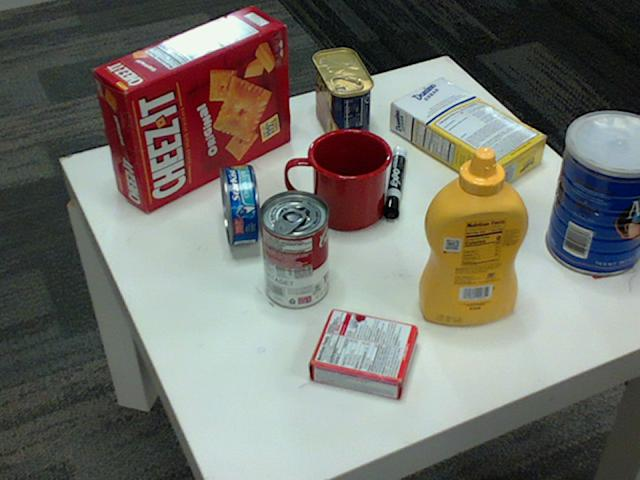cracker_box: (93, 3, 290, 210)
gelatin_box: (307, 309, 416, 401)
large_marker: (382, 149, 406, 218)
master_chef_can: (546, 111, 639, 276)
mug: (286, 126, 392, 229)
mustard_bottle: (418, 147, 529, 324)
potted_meat_can: (310, 49, 372, 148)
sugar_box: (390, 77, 549, 193)
tomato_soup_can: (259, 190, 329, 308)
tuna_fish_can: (219, 164, 260, 246)
